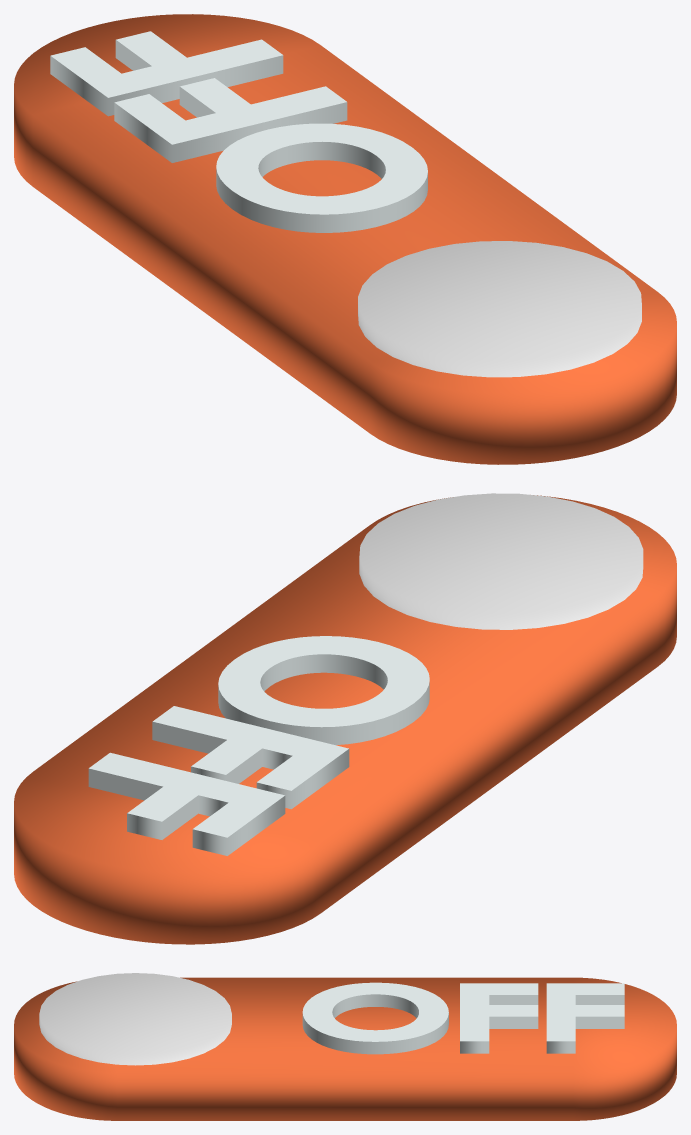
3 renders of one model, top to bottom at view 1: azimuth 30°, elevation 25°; view 2: azimuth 150°, elevation 25°; view 3: azimuth 270°, elevation 25°, orthographic. The views are drawn at different scales.
Parts seen in each view (by area): view 1: obj_0.010, t.006, Cylinder.002; view 2: obj_0.010, t.006, Cylinder.002; view 3: obj_0.010, t.006, Cylinder.002.
Part boxes in pixels (bbox=[...]): obj_0.010: bbox=[14, 14, 676, 464]; t.006: bbox=[50, 31, 427, 232]; Cylinder.002: bbox=[358, 241, 641, 377]; obj_0.010: bbox=[14, 495, 676, 944]; t.006: bbox=[88, 636, 429, 855]; Cylinder.002: bbox=[359, 493, 643, 629]; obj_0.010: bbox=[14, 977, 676, 1120]; t.006: bbox=[302, 982, 624, 1054]; Cylinder.002: bbox=[39, 973, 231, 1065].
Bounding box in the file's own units: 186 × 55.67 × 549.
